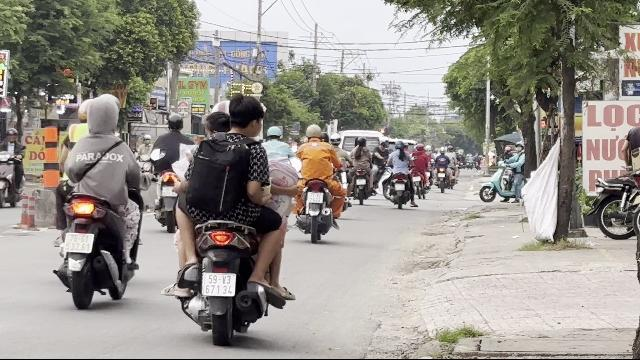helmet: (84, 94, 120, 136), (166, 113, 184, 131), (305, 124, 323, 142)
licenseplate: (203, 273, 235, 297), (64, 232, 94, 254), (306, 192, 324, 204)
motorcyclist: (161, 92, 299, 346), (49, 92, 145, 308), (293, 122, 347, 241), (148, 112, 198, 230)
nohelmet: (226, 94, 266, 138), (203, 106, 231, 138)
